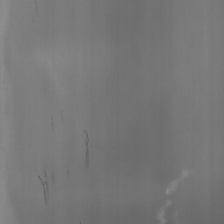water_spot: (79, 117, 96, 172), (36, 157, 52, 215)
